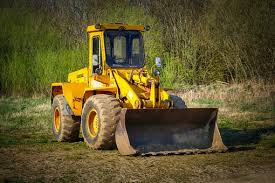bulldozer: (50, 23, 229, 161)
